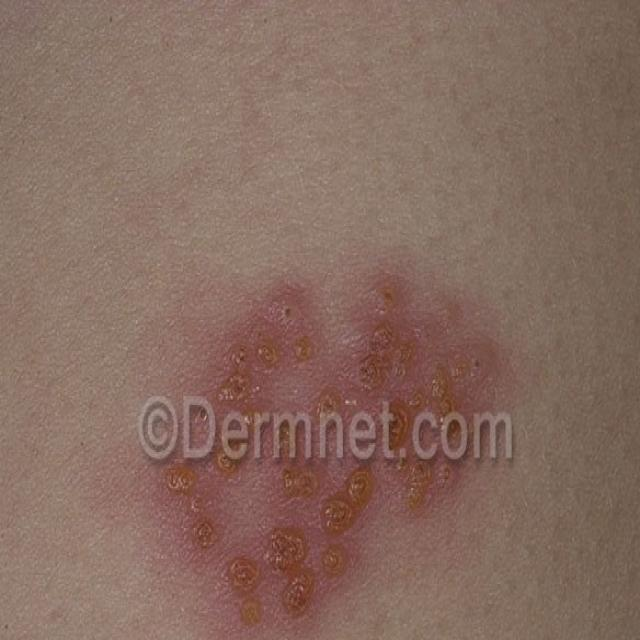Viral Infections: (114, 229, 528, 640)
